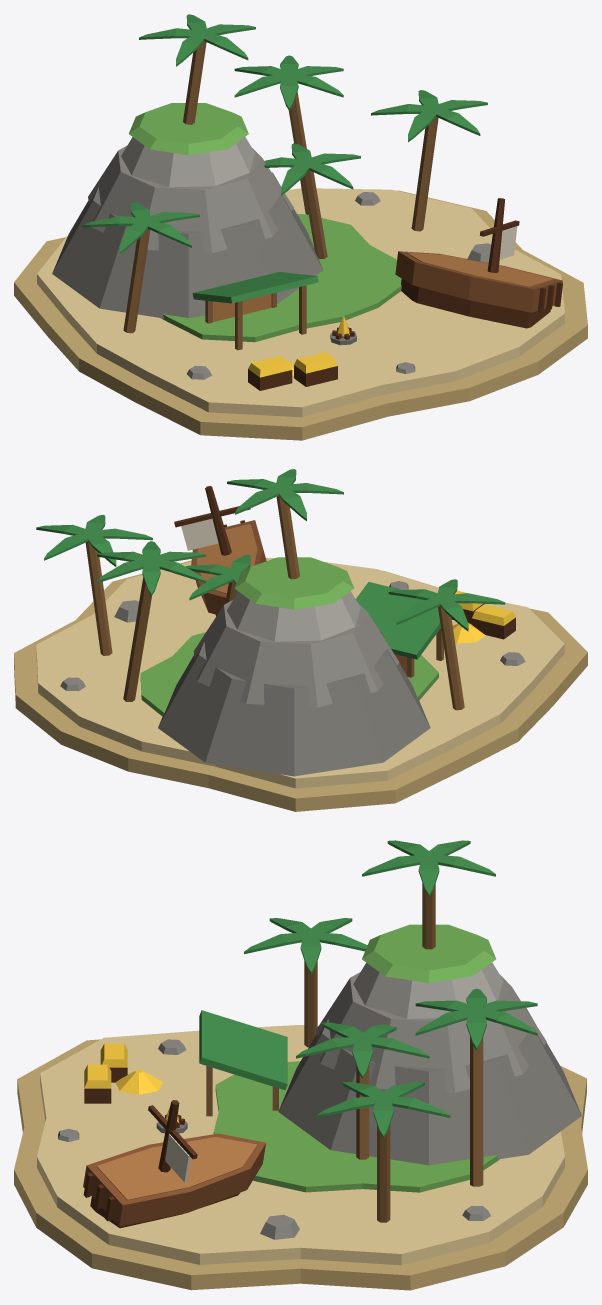
Rendered from desert-island-3x3.glb.
3 renders of one model, top to bottom at view 1: azimuth 30°, elevation 25°; view 2: azimuth 150°, elevation 25°; view 3: azimuth 270°, elevation 25°, orthographic. The views are drawn at different scales.
Visible parts, largest first — view 1: DesertIsland3x3; view 2: DesertIsland3x3; view 3: DesertIsland3x3.
Part boxes in pixels (x1,y1,x2,y2): DesertIsland3x3: (14,14,587,440); DesertIsland3x3: (14,469,587,811); DesertIsland3x3: (14,840,587,1290).
Bounding box in the file's own units: 2.85 × 1.51 × 2.77.
Materials: 1 (1 with a texture image).
